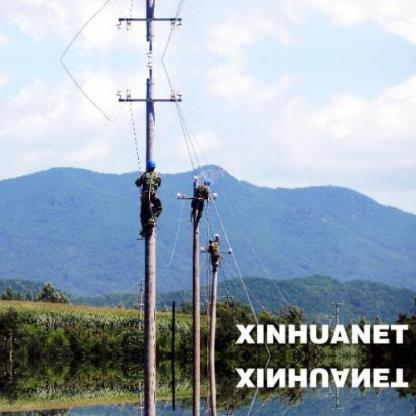Helmet: (144, 156, 154, 170)
